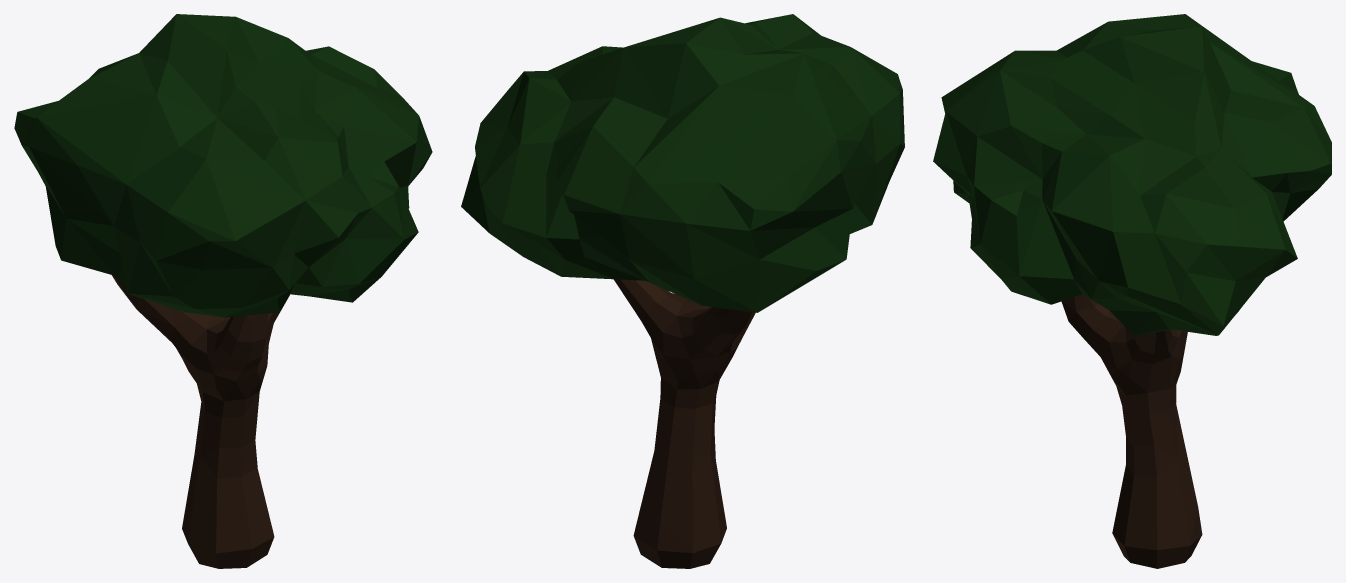
Rendered from tree1.obj.
The picture shows the model from 3 angles, left to right: view 1: azimuth 30°, elevation 25°; view 2: azimuth 150°, elevation 25°; view 3: azimuth 270°, elevation 25°; orthographic projection. The views are drawn at different scales.
Parts seen in each view (by area): view 1: tree_4_Cube.001; view 2: tree_4_Cube.001; view 3: tree_4_Cube.001.
Boxes of the visible parts, box(x1,y1,x2,y2) form: tree_4_Cube.001: box(14, 14, 432, 568); tree_4_Cube.001: box(461, 14, 904, 568); tree_4_Cube.001: box(933, 14, 1331, 568).
Size of the model in its own units: 4.21 by 5.88 by 4.06.
